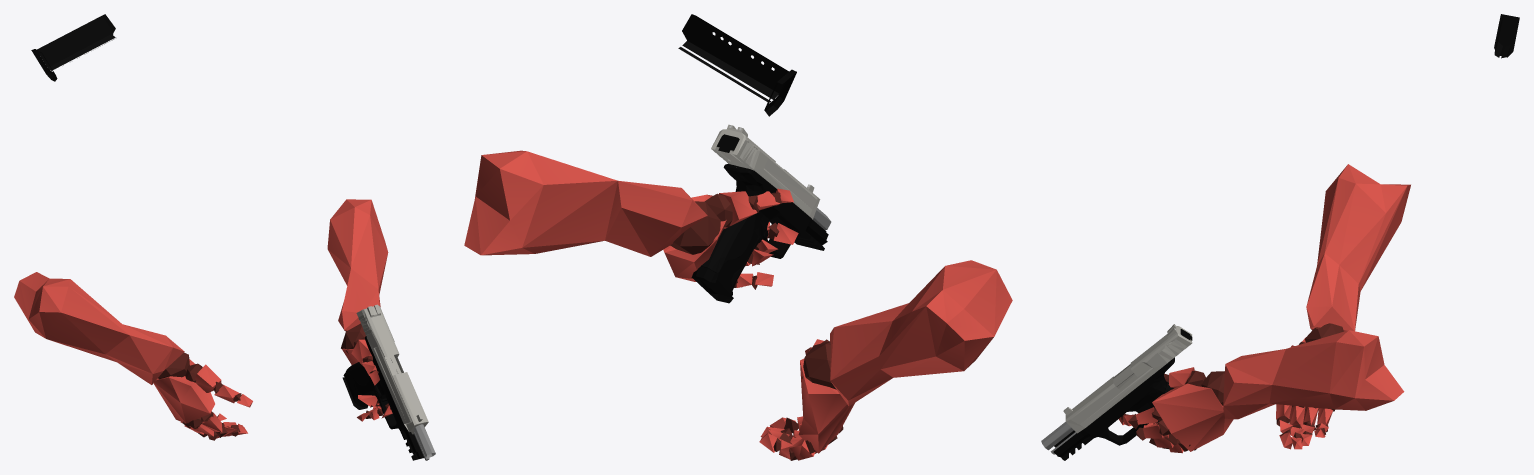
Rendered from M&P9reloadNormal1lowP_000108.obj.
3 renders of one model, left to right at view 1: azimuth 30°, elevation 25°; view 2: azimuth 150°, elevation 25°; view 3: azimuth 270°, elevation 25°, orthographic. The views are drawn at different scales.
Parts seen in each view (by area): view 1: Beta_Surface.001_Beta_Surface.002, slide_平面.002, triger_平面.001, magazine.002_平面.005, Beta_Joints.001_Beta_Joints.002; view 2: Beta_Surface.001_Beta_Surface.002, triger_平面.001, magazine.002_平面.005, Beta_Joints.001_Beta_Joints.002, slide_平面.002; view 3: Beta_Surface.001_Beta_Surface.002, slide_平面.002, triger_平面.001, Beta_Joints.001_Beta_Joints.002, magazine.002_平面.005.
Part boxes in pixels (x1=…): Beta_Surface.001_Beta_Surface.002: x1=14, y1=199, x2=392, y2=438; slide_平面.002: x1=356, y1=304, x2=428, y2=434; triger_平面.001: x1=343, y1=336, x2=435, y2=460; magazine.002_平面.005: x1=31, y1=14, x2=115, y2=81; Beta_Joints.001_Beta_Joints.002: x1=158, y1=323, x2=390, y2=440; Beta_Surface.001_Beta_Surface.002: x1=464, y1=150, x2=1012, y2=460; triger_平面.001: x1=691, y1=164, x2=831, y2=296; magazine.002_平面.005: x1=678, y1=14, x2=796, y2=116; Beta_Joints.001_Beta_Joints.002: x1=670, y1=192, x2=843, y2=460; slide_平面.002: x1=711, y1=124, x2=820, y2=219; Beta_Surface.001_Beta_Surface.002: x1=1118, y1=164, x2=1410, y2=453; slide_平面.002: x1=1063, y1=324, x2=1192, y2=433; triger_平面.001: x1=1041, y1=357, x2=1174, y2=460; Beta_Joints.001_Beta_Joints.002: x1=1121, y1=323, x2=1343, y2=451; magazine.002_平面.005: x1=1494, y1=14, x2=1519, y2=58.
Bounding box in the file's own units: 96.5 × 94.46 × 102.
